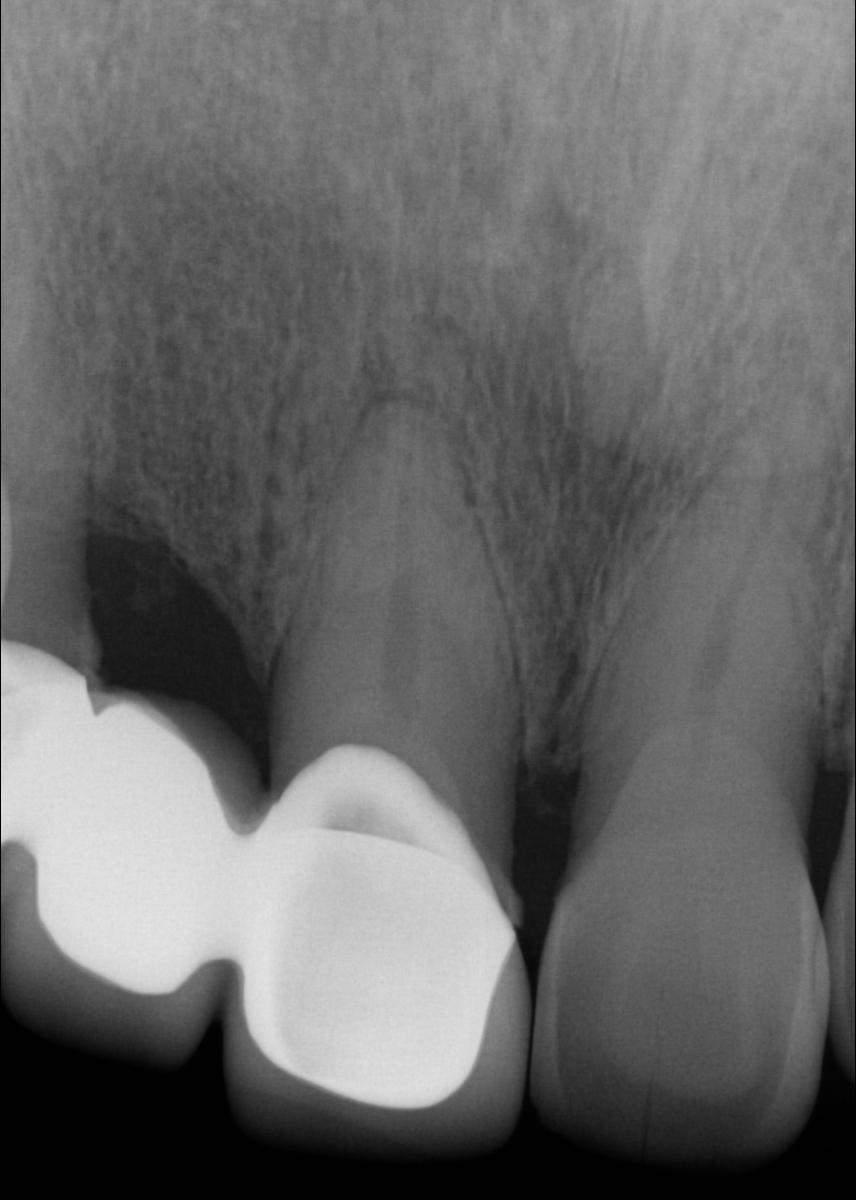Furcation Involvement: (341, 387, 475, 507)
